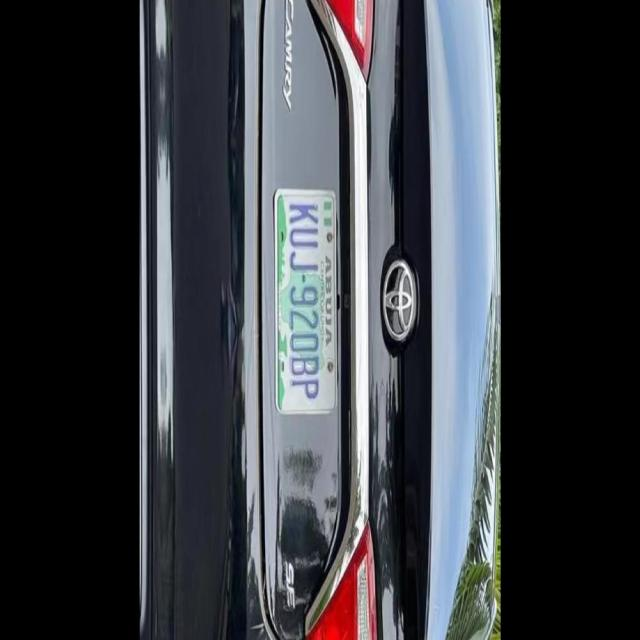Nigerian License Plate - vdataset benjamin-daria: (274, 190, 338, 417)
